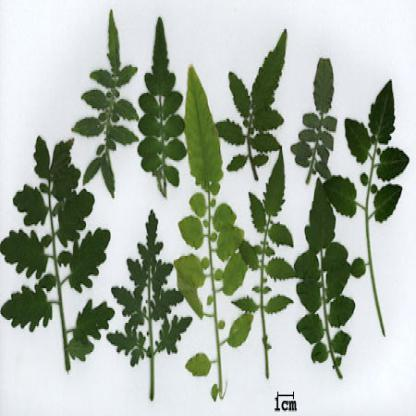Tomato leaf bacterial spot: (182, 64, 226, 192), (174, 204, 211, 259), (176, 272, 210, 322), (180, 344, 216, 390), (224, 308, 254, 352), (176, 249, 208, 290), (224, 247, 248, 299), (214, 219, 244, 254), (209, 198, 238, 233)
